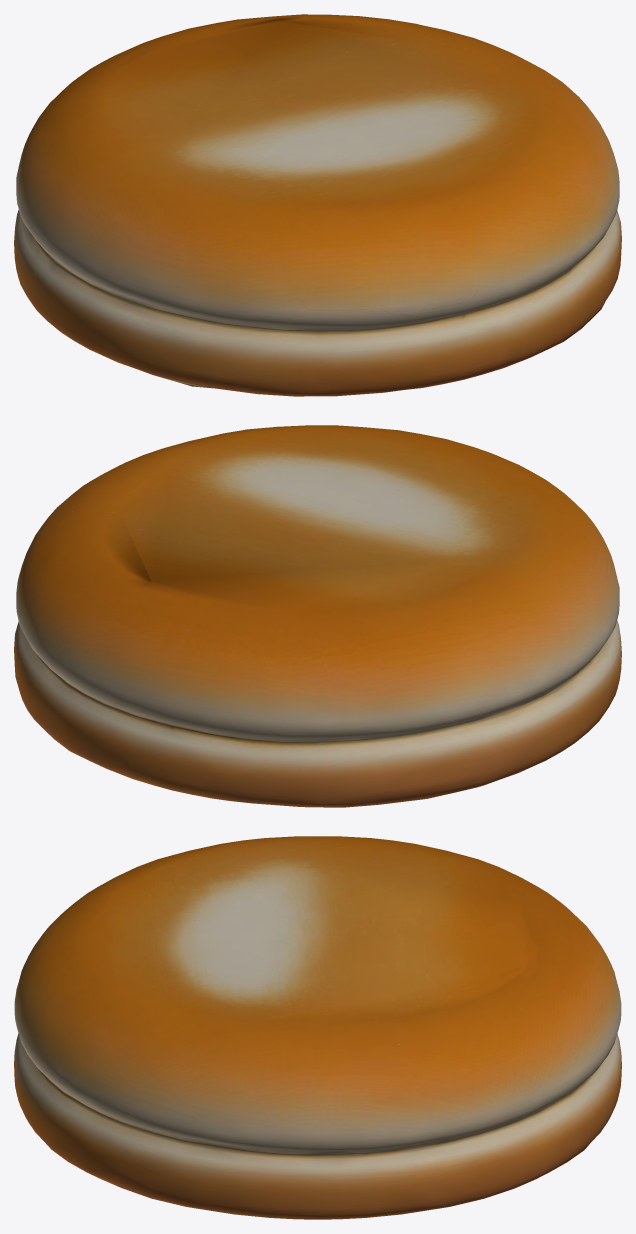
Rendered from bottom-bun.glb.
3 views of the same model, one above another, from view 1: azimuth 30°, elevation 25°; view 2: azimuth 150°, elevation 25°; view 3: azimuth 270°, elevation 25° (orthographic).
Parts seen in each view (by area): view 1: material; view 2: material; view 3: material.
Boxes of the visible parts, x1=… form: material: x1=14, y1=14, x2=621, y2=396; material: x1=14, y1=425, x2=621, y2=807; material: x1=14, y1=836, x2=621, y2=1219.
Bounding box in the file's own units: 1.9 × 0.5761 × 1.9.
Materials: 1 (1 with a texture image).
